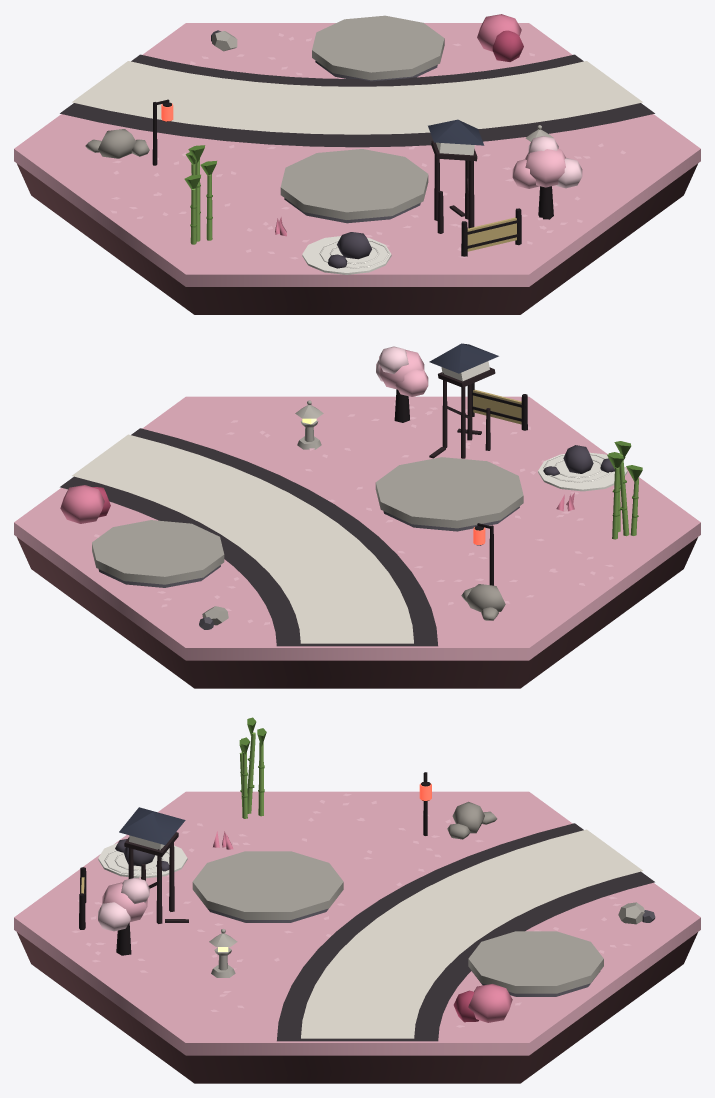
The model's file is tile_watchtower.glb.
3 renders of one model, top to bottom at view 1: azimuth 30°, elevation 25°; view 2: azimuth 150°, elevation 25°; view 3: azimuth 270°, elevation 25°, orthographic.
Parts seen in each view (by area): view 1: ground, road, ground_soil, tower_slot_2_plate, tower_slot_1_plate, deco_tree_sakura, deco_karesansui_gravel, deco_bamboo, deco_yagura_ruin, deco_karesansui, deco_iwa, deco_petals (+5 smaller); view 2: ground, road, ground_soil, tower_slot_2_plate, tower_slot_1_plate, deco_tree_sakura, deco_bamboo, deco_karesansui_gravel, deco_yagura_ruin, deco_bush_2_a, deco_karesansui, deco_yagura_ruin_roof (+3 smaller); view 3: ground, road, ground_soil, tower_slot_2_plate, tower_slot_1_plate, deco_tree_sakura, deco_bamboo, deco_yagura_ruin_roof, deco_bush_2_a, deco_karesansui_gravel, deco_petals, deco_yagura_ruin (+2 smaller).
Part boxes in pixels (<box>): ground: <box>14,23,700,286</box>; road: <box>60,54,654,147</box>; ground_soil: <box>17,163,697,314</box>; tower_slot_2_plate: <box>280,149,428,219</box>; tower_slot_1_plate: <box>312,15,444,80</box>; deco_tree_sakura: <box>512,136,582,188</box>; deco_karesansui_gravel: <box>302,236,391,274</box>; deco_bamboo: <box>184,145,216,244</box>; deco_yagura_ruin: <box>434,155,474,233</box>; deco_karesansui: <box>319,232,389,268</box>; deco_iwa: <box>85,129,149,158</box>; deco_petals: <box>110,33,625,259</box>; ground: <box>14,396,700,660</box>; road: <box>60,428,437,646</box>; ground_soil: <box>17,537,697,688</box>; tower_slot_2_plate: <box>375,457,523,528</box>; tower_slot_1_plate: <box>92,520,224,584</box>; deco_tree_sakura: <box>376,346,428,396</box>; deco_bamboo: <box>607,441,642,539</box>; deco_karesansui_gravel: <box>538,452,627,491</box>; deco_yagura_ruin: <box>429,373,490,458</box>; deco_bush_2_a: <box>60,485,104,523</box>; deco_karesansui: <box>543,445,614,482</box>; deco_yagura_ruin_roof: <box>429,343,498,373</box>; ground: <box>14,791,700,1055</box>; road: <box>277,823,654,1041</box>; ground_soil: <box>17,932,697,1083</box>; tower_slot_2_plate: <box>192,851,343,919</box>; tower_slot_1_plate: <box>468,931,603,993</box>; deco_tree_sakura: <box>98,877,149,931</box>; deco_bamboo: <box>239,717,266,818</box>; deco_yagura_ruin_roof: <box>119,807,185,845</box>; deco_bush_2_a: <box>468,984,512,1022</box>; deco_karesansui_gravel: <box>98,843,187,878</box>; deco_petals: <box>72,793,631,1027</box>; deco_yagura_ruin: <box>128,843,188,923</box>.
Size of the model in its own units: 1.73 by 0.4858 by 2.
